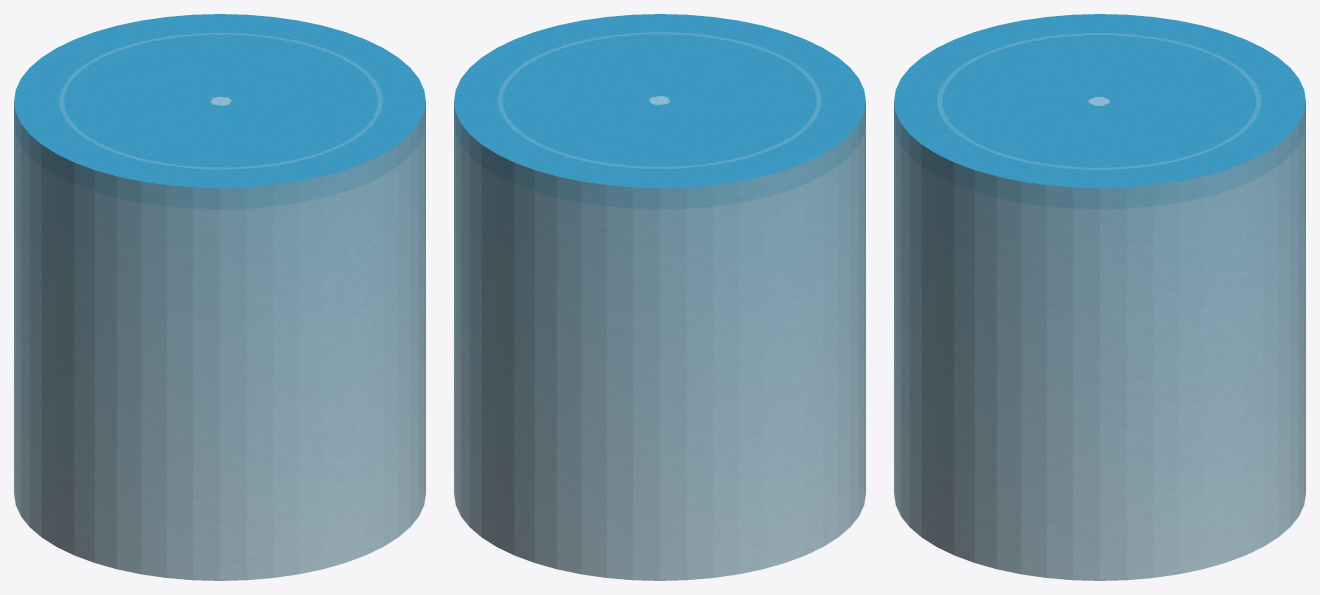
The model's file is cyl_tall_blue.glb.
The picture shows the model from 3 angles, left to right: view 1: azimuth 30°, elevation 25°; view 2: azimuth 150°, elevation 25°; view 3: azimuth 270°, elevation 25°; orthographic projection.
Parts seen in each view (by area): view 1: cyl_tall_blue; view 2: cyl_tall_blue; view 3: cyl_tall_blue.
Boxes of the visible parts, x1,y1,x2,y2 form: cyl_tall_blue: (14, 14, 425, 580); cyl_tall_blue: (454, 14, 865, 580); cyl_tall_blue: (894, 14, 1305, 580).
Size of the model in its own units: 1.9 by 2 by 1.9.
2 materials, 2 textured.
